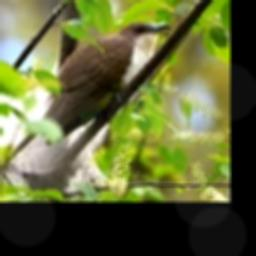Cuckoo: (0, 21, 171, 181)
